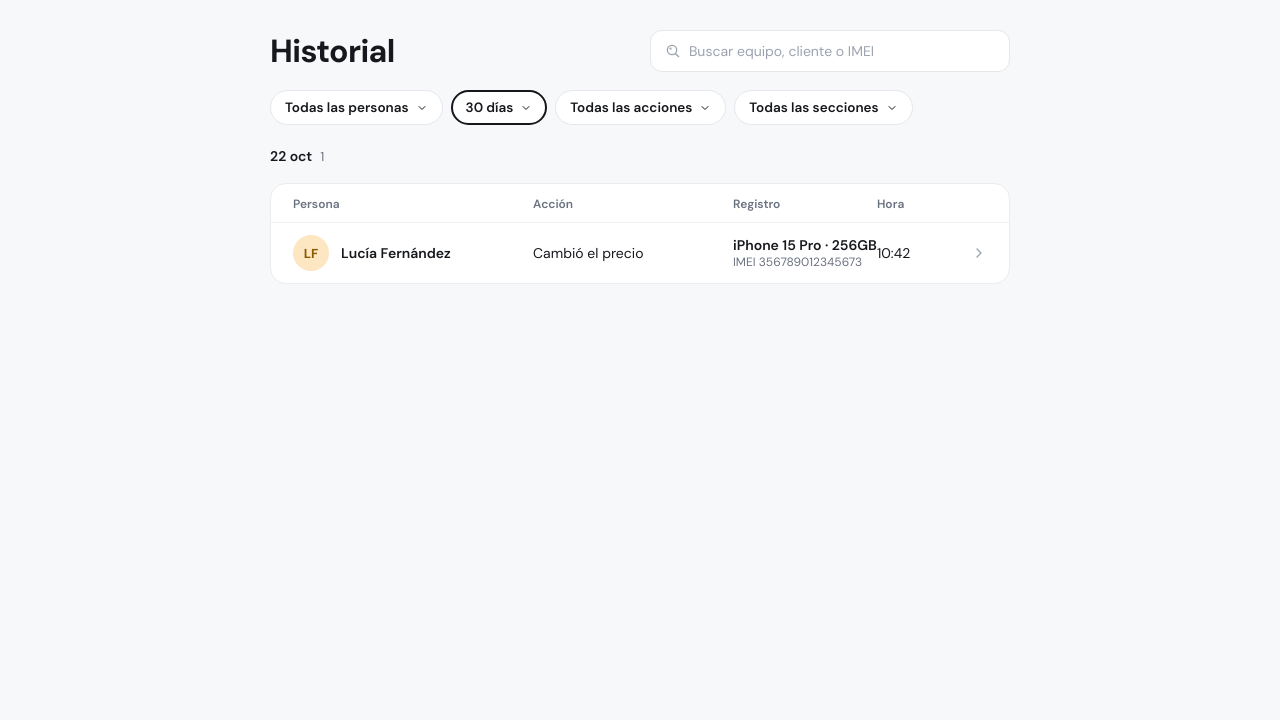
Test case: Historial #372 › shows structured changes and actual identity in the responsive detail (phone=false)
Click the button with aria-label "Lucía Fernández · Cambió el precio".
click(640, 253)  # box [271, 223, 1009, 283]
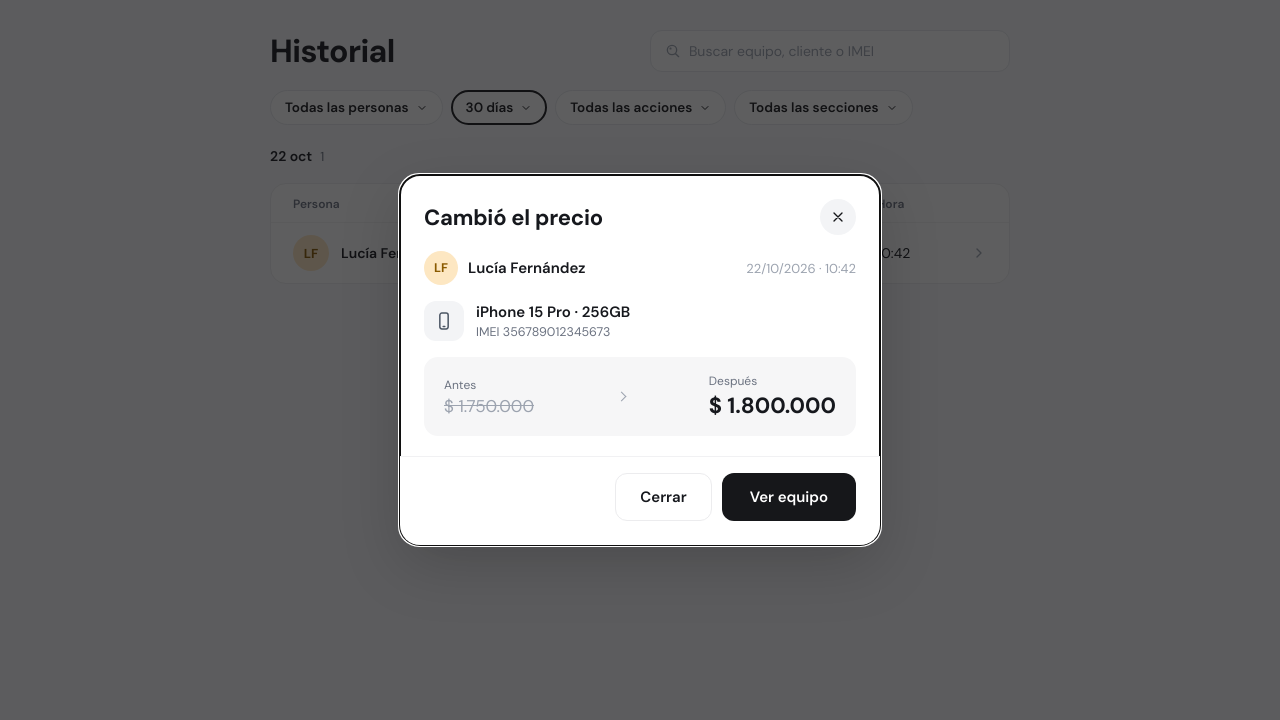
Check: the dialog "Cambió el precio" shows "iPhone 15 Pro · 256GB", box [476, 302, 630, 322]
Check: the dialog "Cambió el precio" shows "IMEI 356789012345673", box [476, 324, 610, 340]
Check: the dialog "Cambió el precio" shows "Lucía Fernández", box [468, 258, 586, 278]
Click the button "Ver equipo".
click(789, 497)  # box [722, 473, 856, 521]
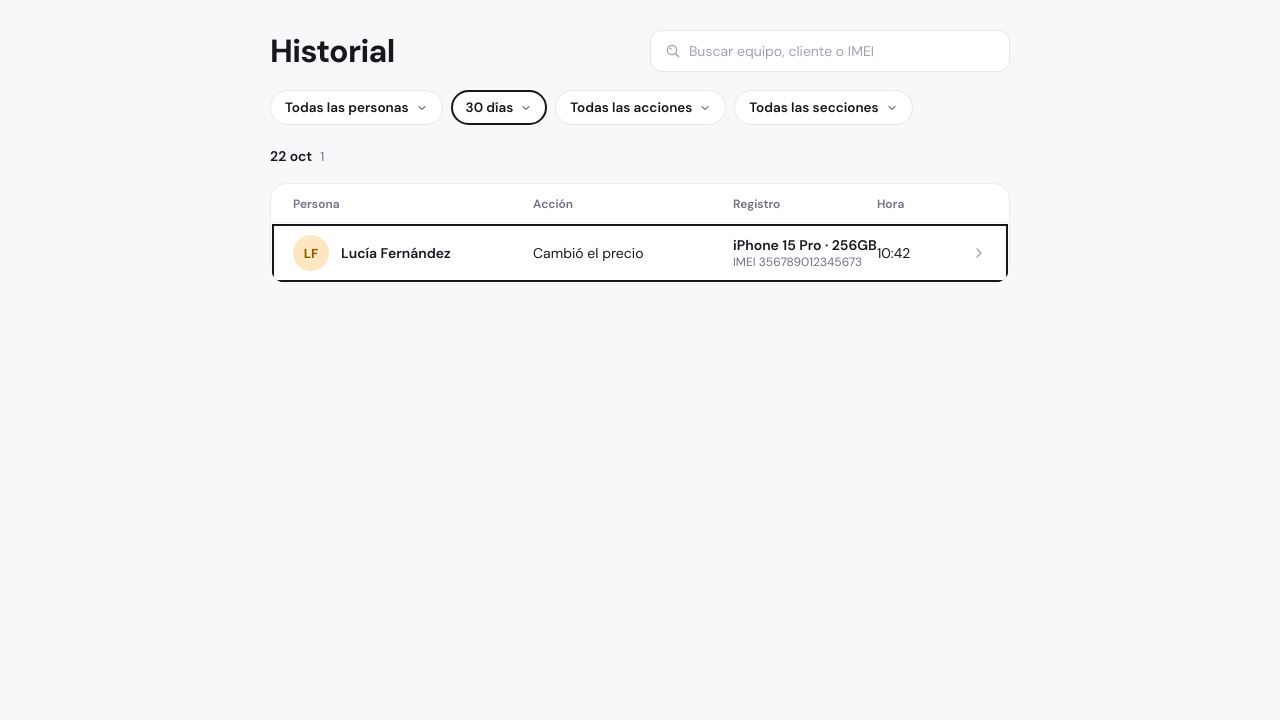
Check: the dialog is gone
